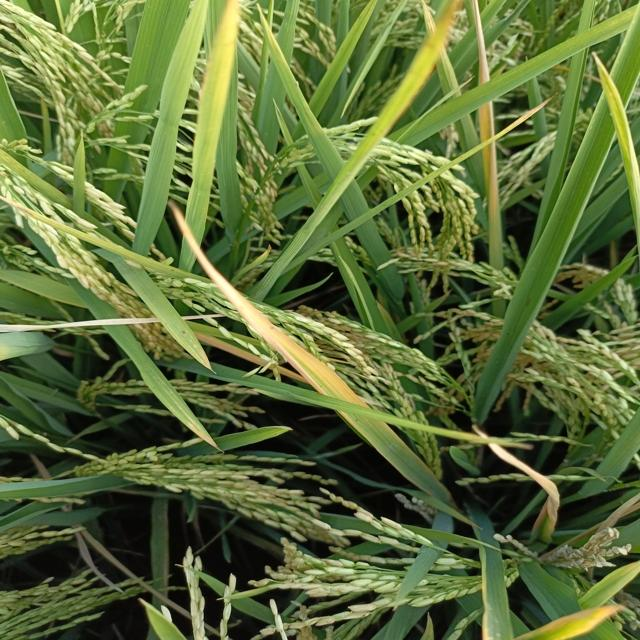Brown spot: (165, 195, 400, 446), (474, 423, 581, 546), (385, 0, 470, 129), (194, 0, 248, 175), (467, 0, 508, 220), (533, 596, 630, 640)
